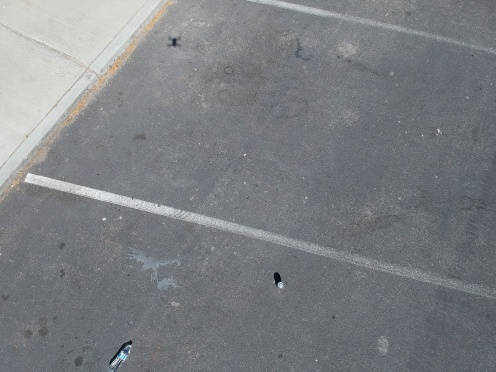bottle: (110, 336, 136, 372)
can: (274, 280, 287, 290)
